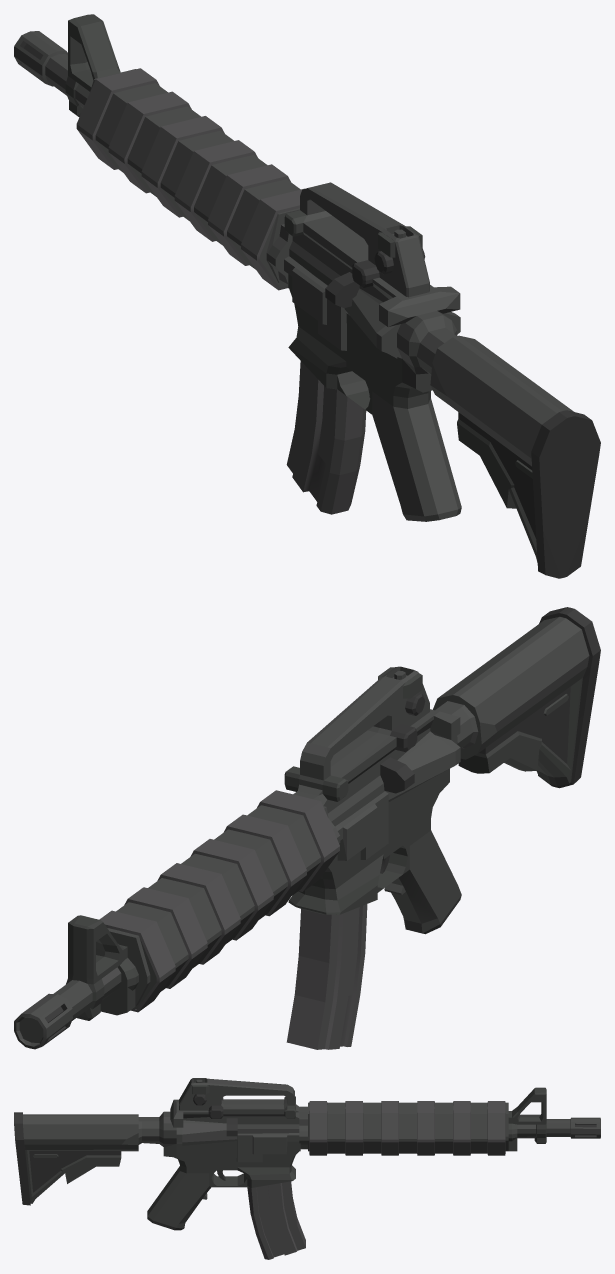
Rendered from Mod_M4A1.glb.
The picture shows the model from 3 angles, top to bottom: view 1: azimuth 30°, elevation 25°; view 2: azimuth 150°, elevation 25°; view 3: azimuth 270°, elevation 25°; orthographic projection. The views are drawn at different scales.
Visible parts, largest first — view 1: Mod_M4A1; view 2: Mod_M4A1; view 3: Mod_M4A1.
Part boxes in pixels (left/top/right/bottom): Mod_M4A1: left=14, top=14, right=600, bottom=578; Mod_M4A1: left=14, top=607, right=600, bottom=1049; Mod_M4A1: left=14, top=1078, right=600, bottom=1259.
Size of the model in its own units: 0.0882 by 0.3288 by 0.9935.
Materials: 1 (1 with a texture image).
